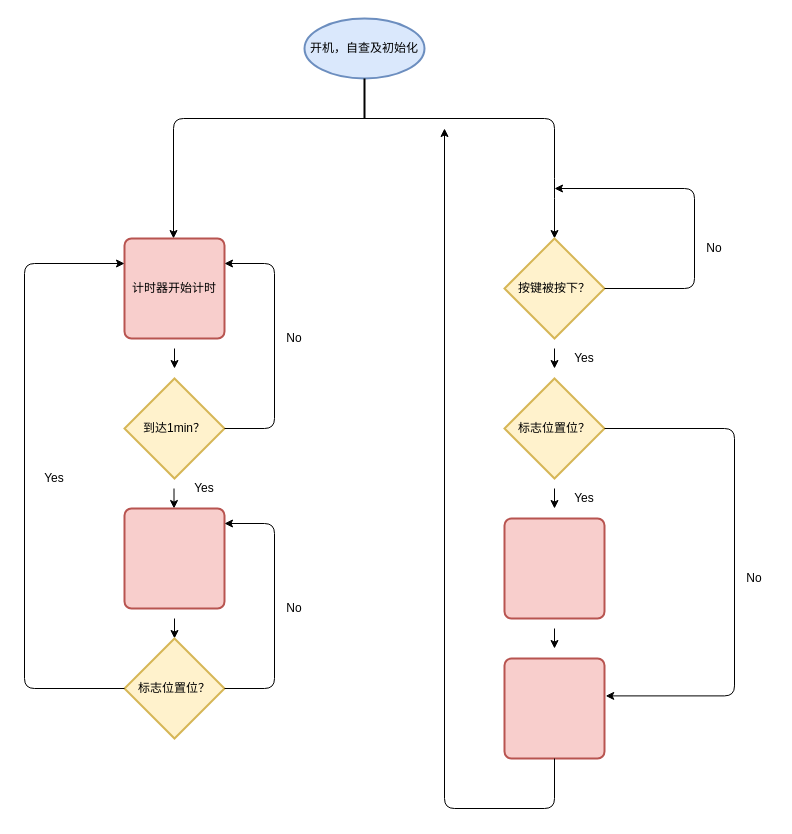
Image size: 792x834. Some labels were removed from this diagram. The shapes that lost their labels are listed below. From the top down, each one's centre as x and y in pixels, then its label:
At (x=174, y=558): "标志位置位，进入低功耗模式。".
At (x=554, y=568): "标志位复位，退出低功耗模式。".
At (x=554, y=708): "进行AD采集。 结果显示在oled上。".
